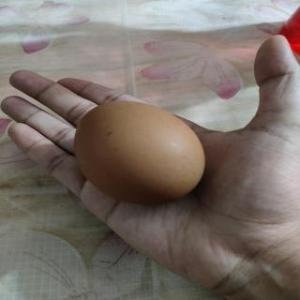egg: (72, 100, 206, 206)
